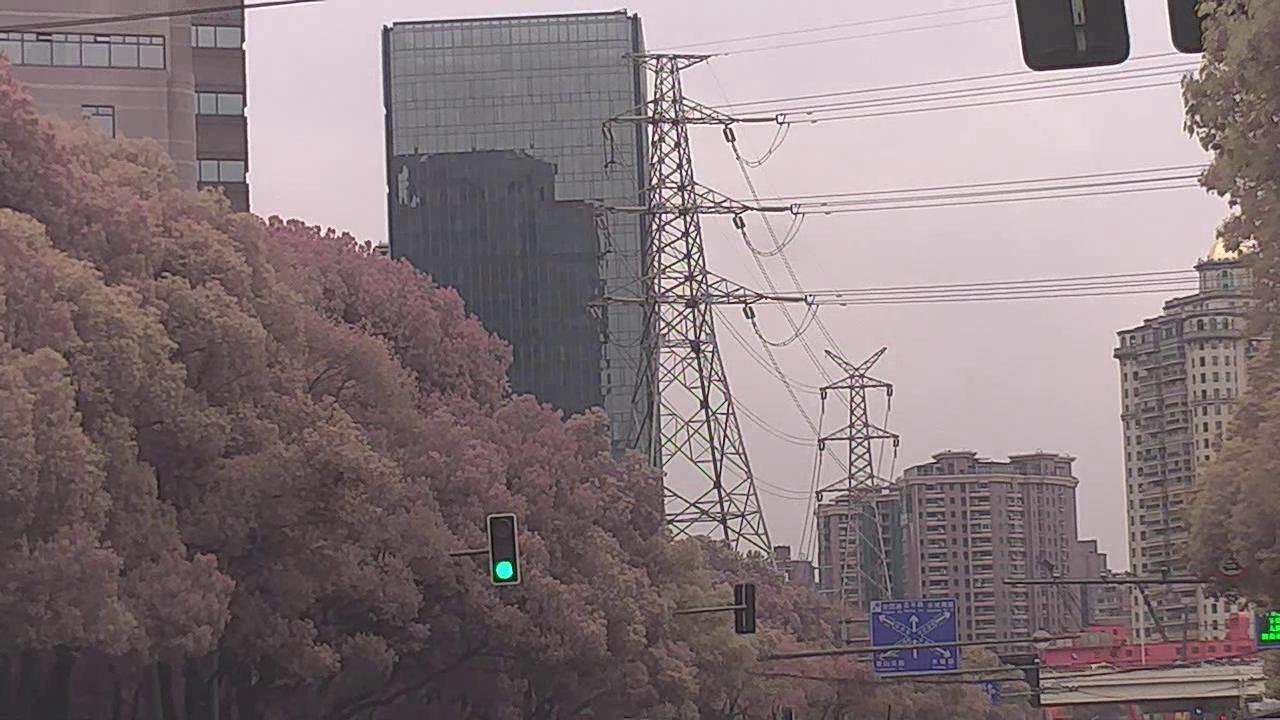traffic_light: (486, 514, 521, 587)
